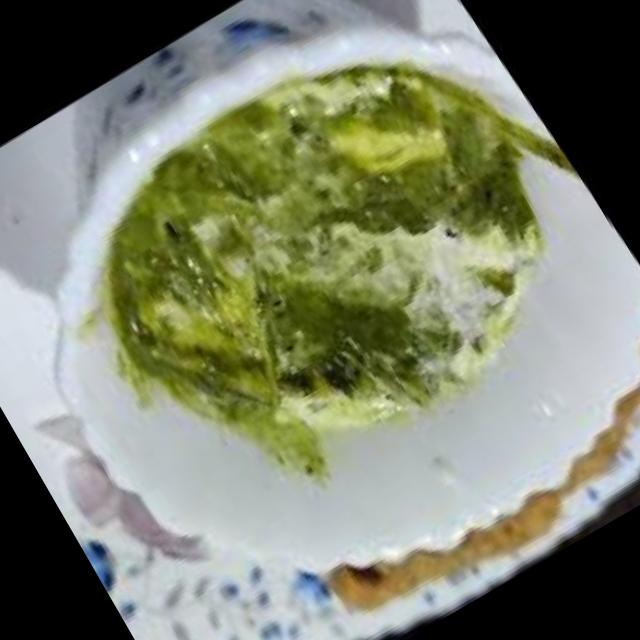palak_paneer: (42, 0, 627, 531)
